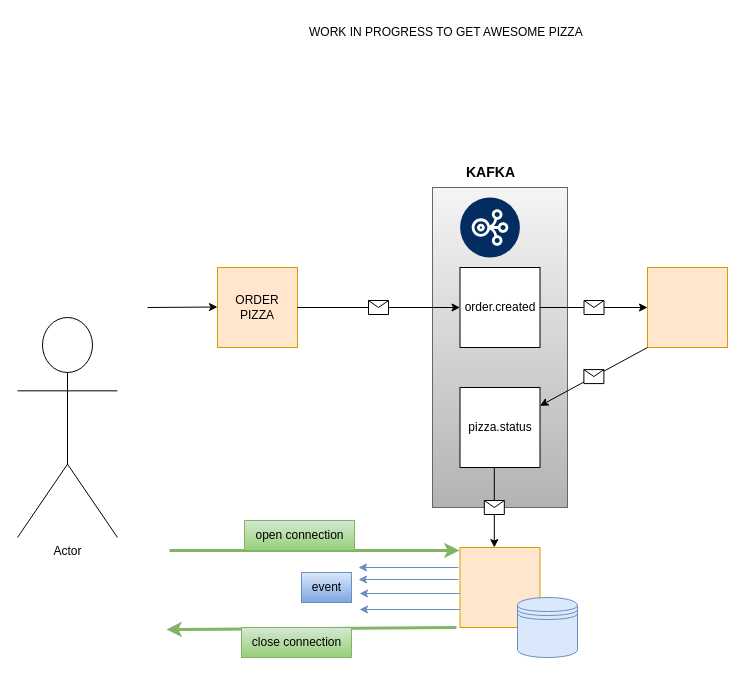
This 745x675 diagram has some shape labels left out. The centre of each missing label's shape, as x and y in pixels:
"mongo" belongs at (x=547, y=627).
"PIZZA MAKER" belongs at (x=687, y=307).
"PIZZA STATUS" belongs at (x=499, y=587).
